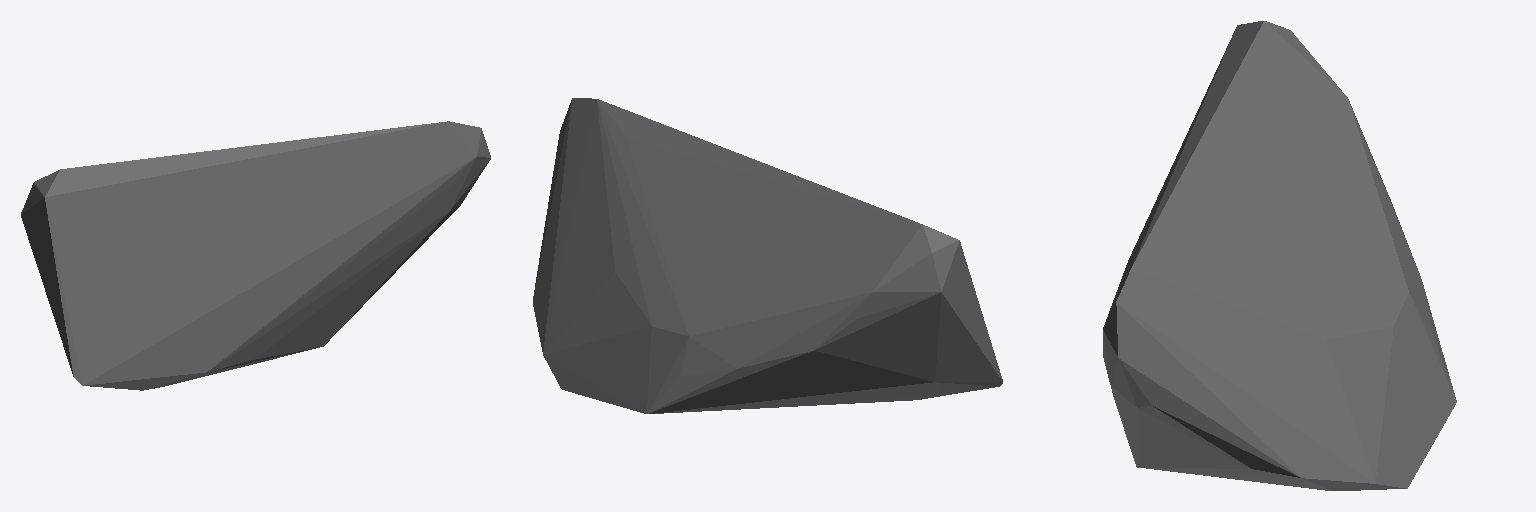
URDF robot description (55_473):
<?xml version="1.0"?>
<robot name="55_473">
  <link name="link">
    <contact>
      <lateral_friction value="0.6"/>
    </contact>
    <inertial>
      <origin xyz="-0.003112338573367676 -0.006340854126751498 -0.003138769698968089" rpy="0 0 0"/>
      <mass value = "0.3473455658051866"/>
      <inertia ixx="0.00010012584832449784" ixy="-1.2137194705989397e-05" ixz="-2.22556106044037e-06" iyy="0.000277467607521878" iyz="-6.068420159930502e-06" izz="0.000276073694621886" />
    </inertial>
    <visual name="visual">
      <geometry>
        <mesh filename="55_473.obj"/>
      </geometry>
      <material name="material">
        <color rgba="0.4640567260005457 0.4640567260005457 0.4640567260005457 1.0"/>
      </material>
    </visual>
    <collision name="collision">
      <geometry>
        <mesh filename="55_473.obj"/>
      </geometry>
    </collision>
  </link>
</robot>

--- What the picture shows (computed from the rendered views, not written in the file) ---
Views: 3 orthographic renders of the robot side by side, from view 1: azimuth 30°, elevation 25°; view 2: azimuth 150°, elevation 25°; view 3: azimuth 270°, elevation 25°.
Robot: 55_473 — 1 links, 0 joints (none); root link link; default pose: all joints at 0.
Visible links, largest first — view 1: link; view 2: link; view 3: link.
Link boxes in pixels (<box>): link: <box>21,121,490,390</box>; link: <box>533,98,1002,413</box>; link: <box>1103,21,1456,490</box>.
Size in the robot's own frame: 0.1125 by 0.0574 by 0.052 metres.
1 mesh visuals loaded from 1 distinct referenced files (1 OBJ).
